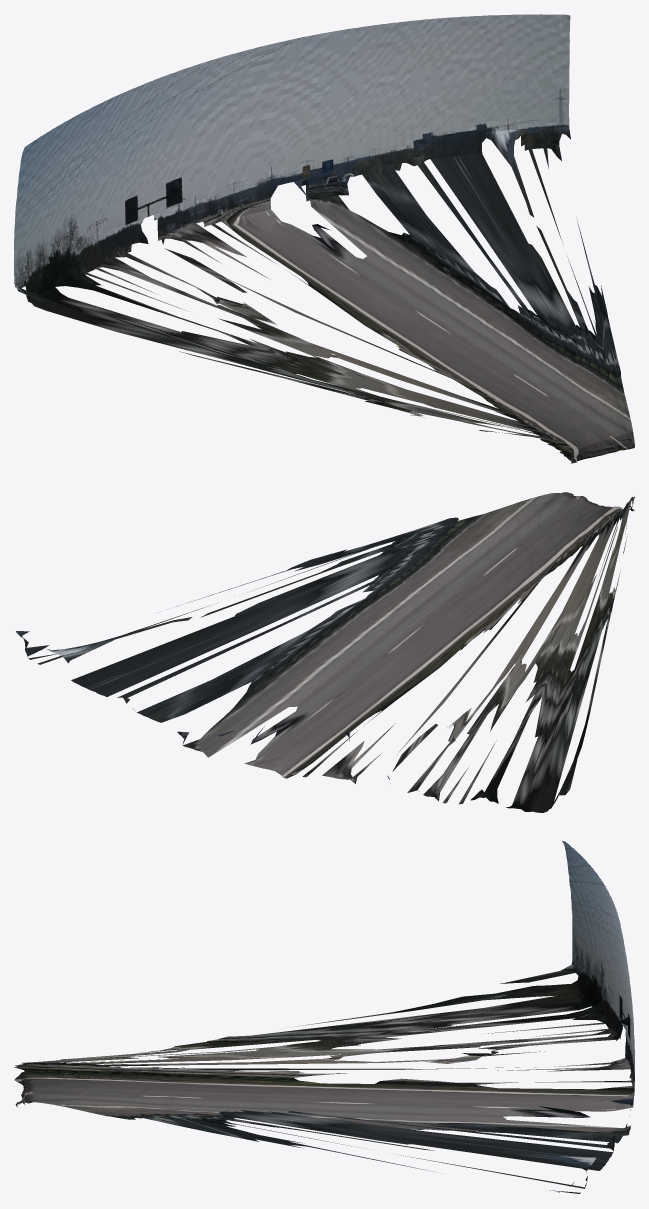
3 views of the same model, one above another, from view 1: azimuth 30°, elevation 25°; view 2: azimuth 150°, elevation 25°; view 3: azimuth 270°, elevation 25° (orthographic). The views are drawn at different scales.
Visible parts, largest first — view 1: defaultobject; view 2: defaultobject; view 3: defaultobject.
Part boxes in pixels (x1=…): defaultobject: x1=14, y1=14, x2=634, y2=463; defaultobject: x1=16, y1=492, x2=634, y2=812; defaultobject: x1=14, y1=841, x2=634, y2=1193.
Size of the model in its own units: 41.16 by 12.59 by 44.68.
Materials: 1 (1 with a texture image).
